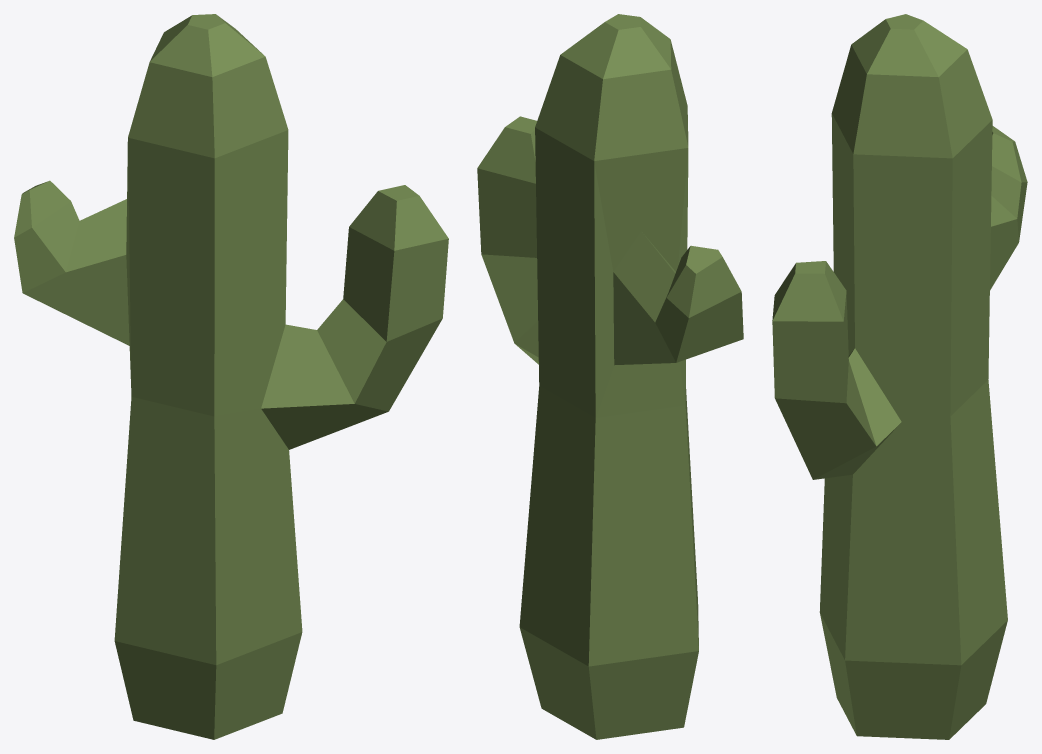
File: cactus3.fbx
The picture shows the model from 3 angles, left to right: view 1: azimuth 30°, elevation 25°; view 2: azimuth 150°, elevation 25°; view 3: azimuth 270°, elevation 25°; orthographic projection.
Visible parts, largest first — view 1: cactus3; view 2: cactus3; view 3: cactus3.
Part boxes in pixels (box(x1,y1,x2,y2)): cactus3: box(14, 14, 448, 739); cactus3: box(477, 14, 743, 739); cactus3: box(772, 14, 1027, 739).
Bounding box in the file's own units: 2.99 × 5.91 × 1.99.
